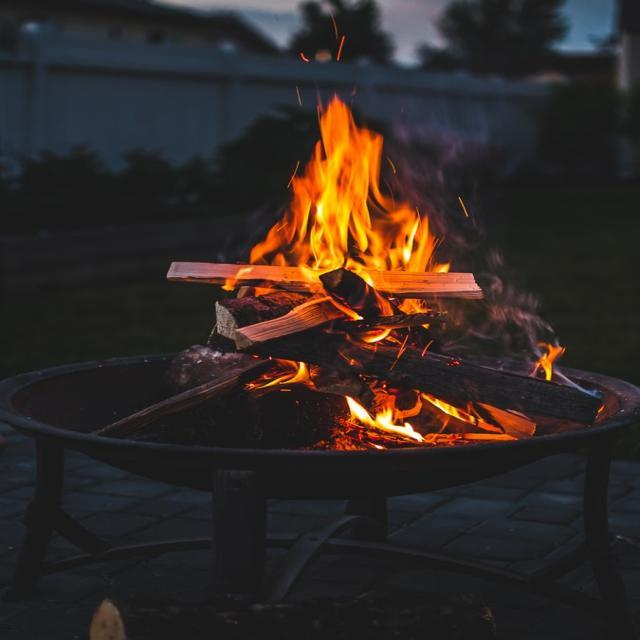Fire: (194, 81, 570, 435)
